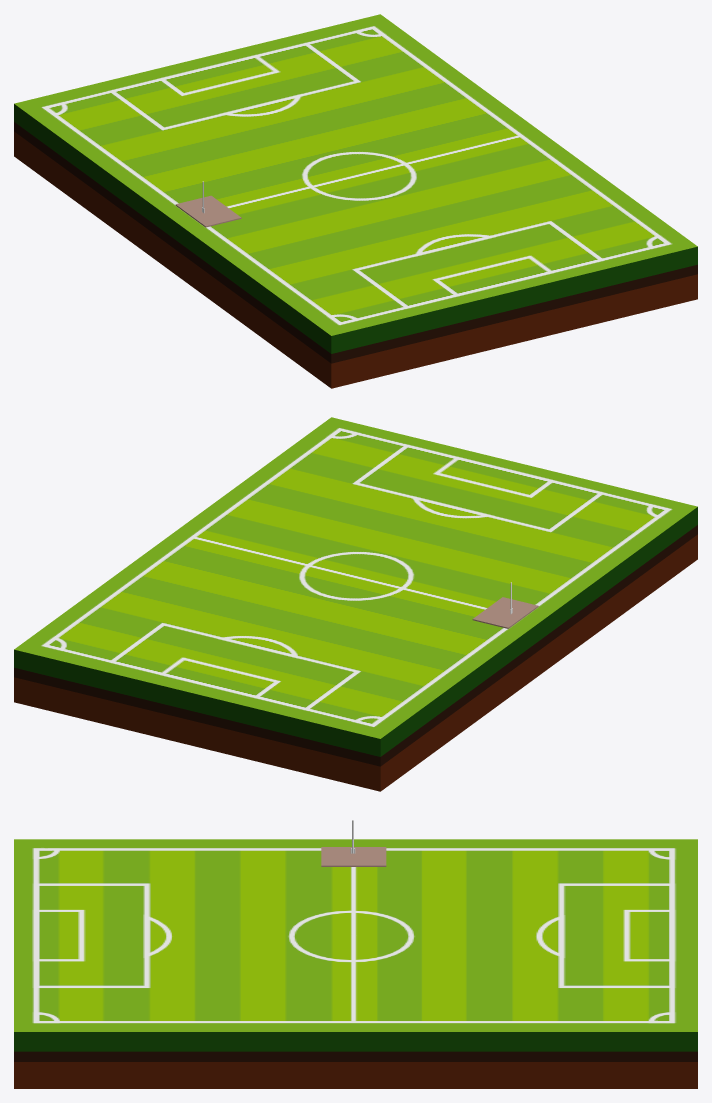
File: football_field.fbx
The picture shows the model from 3 angles, top to bottom: view 1: azimuth 30°, elevation 25°; view 2: azimuth 150°, elevation 25°; view 3: azimuth 270°, elevation 25°; orthographic projection. The views are drawn at different scales.
Parts seen in each view (by area): view 1: node_id12, node_id18, node_id14, node_id16, node_id6; view 2: node_id12, node_id18, node_id14, node_id16, node_id6; view 3: node_id12, node_id18, node_id14, node_id16, node_id6.
Part boxes in pixels (x1,y1,x2,y2): node_id12: [14, 14, 697, 335]; node_id18: [14, 131, 697, 388]; node_id14: [14, 104, 697, 353]; node_id16: [14, 122, 697, 363]; node_id6: [175, 195, 241, 227]; node_id12: [14, 417, 697, 738]; node_id18: [14, 534, 697, 791]; node_id14: [14, 507, 697, 756]; node_id16: [14, 525, 697, 766]; node_id6: [472, 597, 538, 628]; node_id12: [14, 839, 697, 1031]; node_id18: [14, 1062, 697, 1088]; node_id14: [14, 1032, 697, 1051]; node_id16: [14, 1051, 697, 1061]; node_id6: [321, 847, 386, 866].
Bounding box in the file's own units: 0.512 × 0.113 × 0.768.
9 materials, 5 textured.
